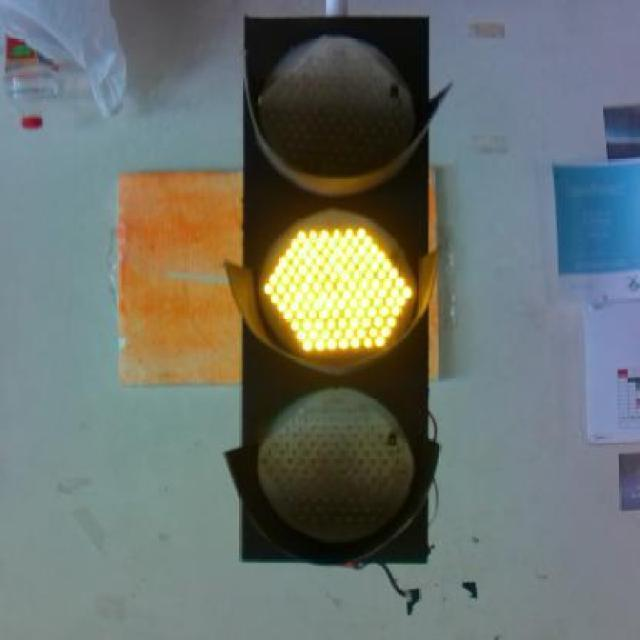Lampu Kuning: (242, 17, 429, 565)
